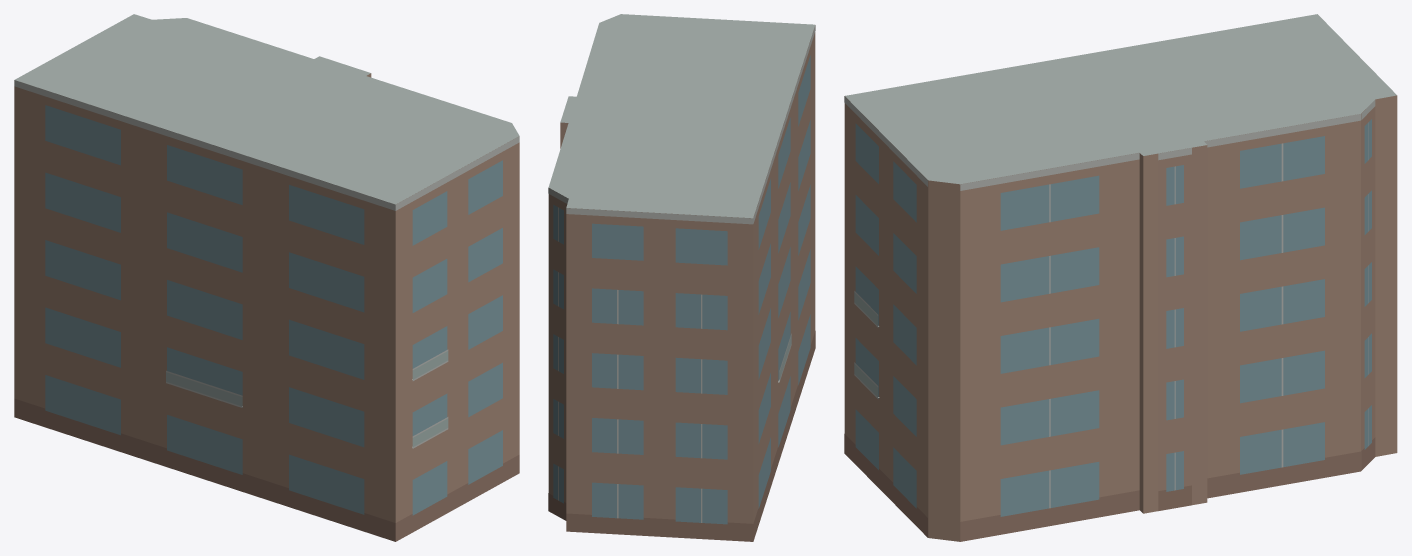
The model's file is survey-upis-33016894.glb.
3 renders of one model, left to right at view 1: azimuth 30°, elevation 25°; view 2: azimuth 150°, elevation 25°; view 3: azimuth 270°, elevation 25°, orthographic. The views are drawn at different scales.
Visible parts, largest first — view 1: survey-upis-33016894.tmp; view 2: survey-upis-33016894.tmp; view 3: survey-upis-33016894.tmp.
Boxes of the visible parts, x1=… form: survey-upis-33016894.tmp: x1=14, y1=14, x2=519, y2=541; survey-upis-33016894.tmp: x1=548, y1=14, x2=815, y2=541; survey-upis-33016894.tmp: x1=844, y1=14, x2=1397, y2=541.
Bounding box in the file's own units: 13.13 × 12.85 × 18.01.
